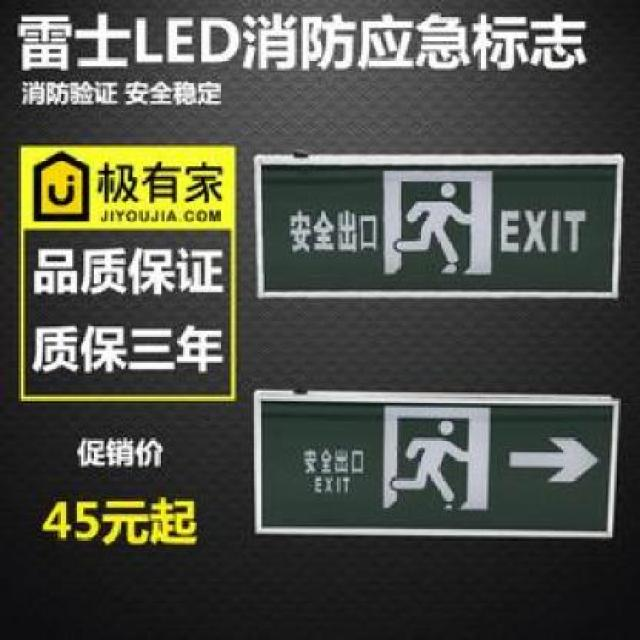exit_sign: (241, 133, 640, 309), (248, 380, 632, 559)
